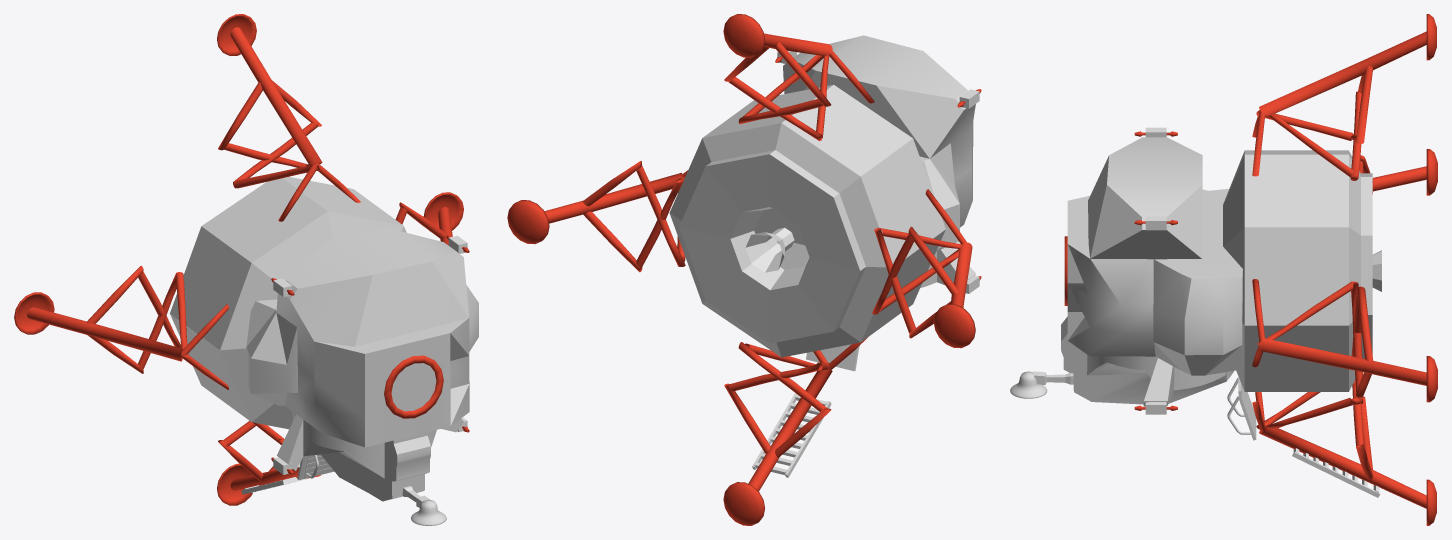
File: navicella.fbx
3 renders of one model, left to right at view 1: azimuth 30°, elevation 25°; view 2: azimuth 150°, elevation 25°; view 3: azimuth 270°, elevation 25°, orthographic. The views are drawn at different scales.
Parts seen in each view (by area): view 1: CABIN_2.001, Circle.001, Circle.005, Circle.006, Circle.004, Cube.003, Circle.003, FrontRamp.001; view 2: Circle.001, CABIN_2.001, Circle.005, Circle.006, Circle, Cube, Cube.003, FrontRamp.001; view 3: CABIN_2.001, Circle.001, Circle.005, Circle.006, Cube.003, Cube, Circle.003, FrontRamp.001.
Part boxes in pixels (<box>): CABIN_2.001: <box>246,227,478,501</box>; Circle.001: <box>170,177,406,429</box>; Circle.005: <box>217,14,360,505</box>; Circle.006: <box>14,192,463,389</box>; Circle.004: <box>384,355,443,418</box>; Cube.003: <box>271,235,469,475</box>; Circle.003: <box>411,500,446,525</box>; FrontRamp.001: <box>297,454,334,480</box>; Circle.001: <box>669,84,945,357</box>; CABIN_2.001: <box>754,35,975,287</box>; Circle.005: <box>723,14,874,525</box>; Circle.006: <box>507,161,975,348</box>; Circle: <box>745,227,794,272</box>; Cube: <box>752,393,831,477</box>; Cube.003: <box>775,51,981,293</box>; FrontRamp.001: <box>806,344,859,371</box>; CABIN_2.001: <box>1061,137,1242,406</box>; Circle.001: <box>1223,150,1372,391</box>; Circle.005: <box>1252,14,1436,525</box>; Circle.006: <box>1252,149,1437,402</box>; Cube.003: <box>1134,127,1177,414</box>; Cube: <box>1292,448,1380,497</box>; Circle.003: <box>1010,371,1047,398</box>; FrontRamp.001: <box>1238,376,1256,440</box>.
Size of the model in its own units: 1535 by 1604 by 1226.
